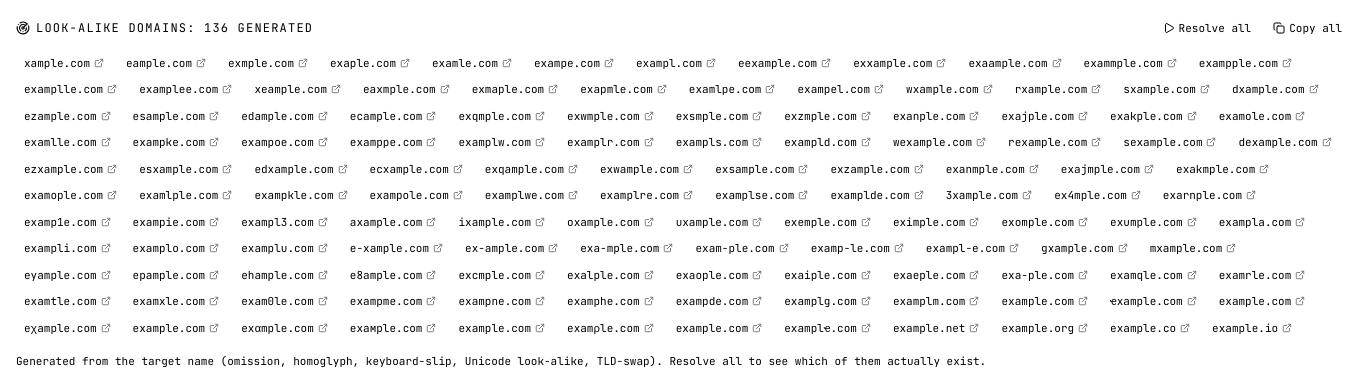
Test: <TyposquatPanel> › copies every candidate to the clipboard
This screenshot has width=1366, height=384.
Click the button with aria-label "Copy every look-alike" at (1308, 28), box [1265,16,1350,40]
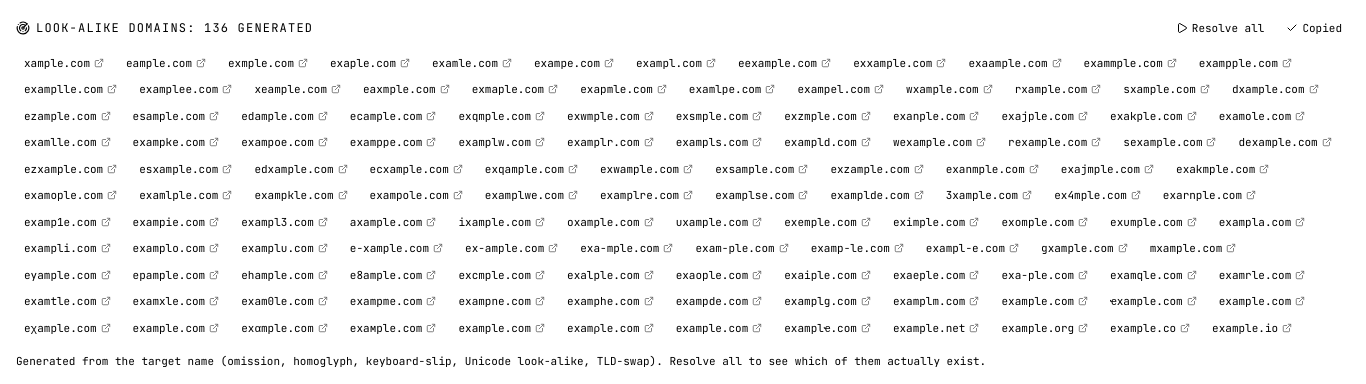
Now the button "Copied" is shown, box [1278,16,1350,40]
